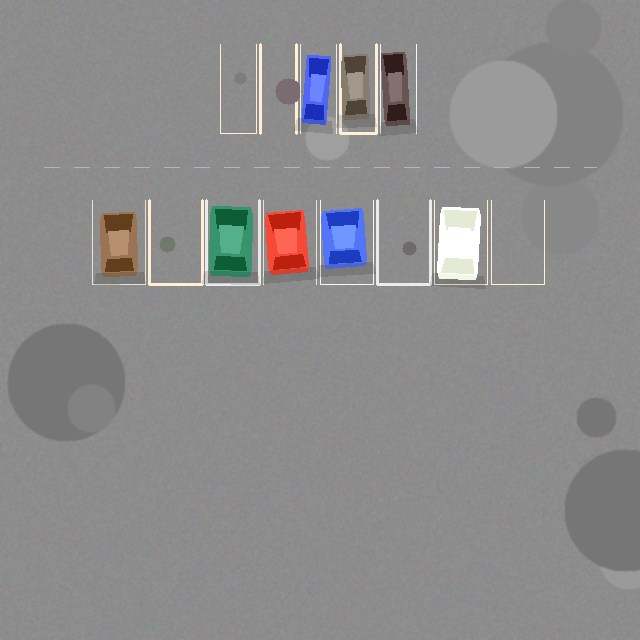space-empty: (149, 200, 202, 284), (377, 200, 430, 284), (491, 200, 544, 284), (220, 44, 256, 133), (260, 44, 296, 133)
space-occupied: (92, 200, 145, 284), (206, 200, 259, 284), (263, 200, 316, 284), (320, 200, 373, 284), (434, 200, 487, 284), (300, 44, 336, 133), (340, 44, 376, 133), (380, 44, 416, 133)
